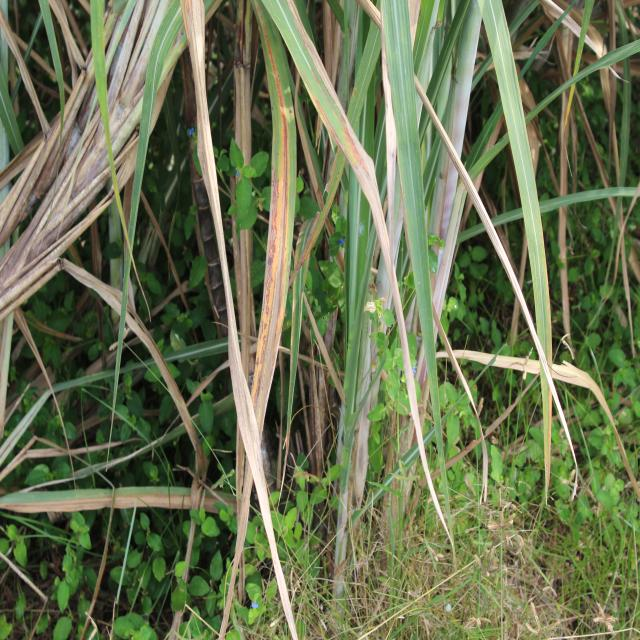Sugarcane: (254, 0, 453, 556), (378, 0, 456, 568), (471, 0, 556, 494), (240, 0, 298, 629)
